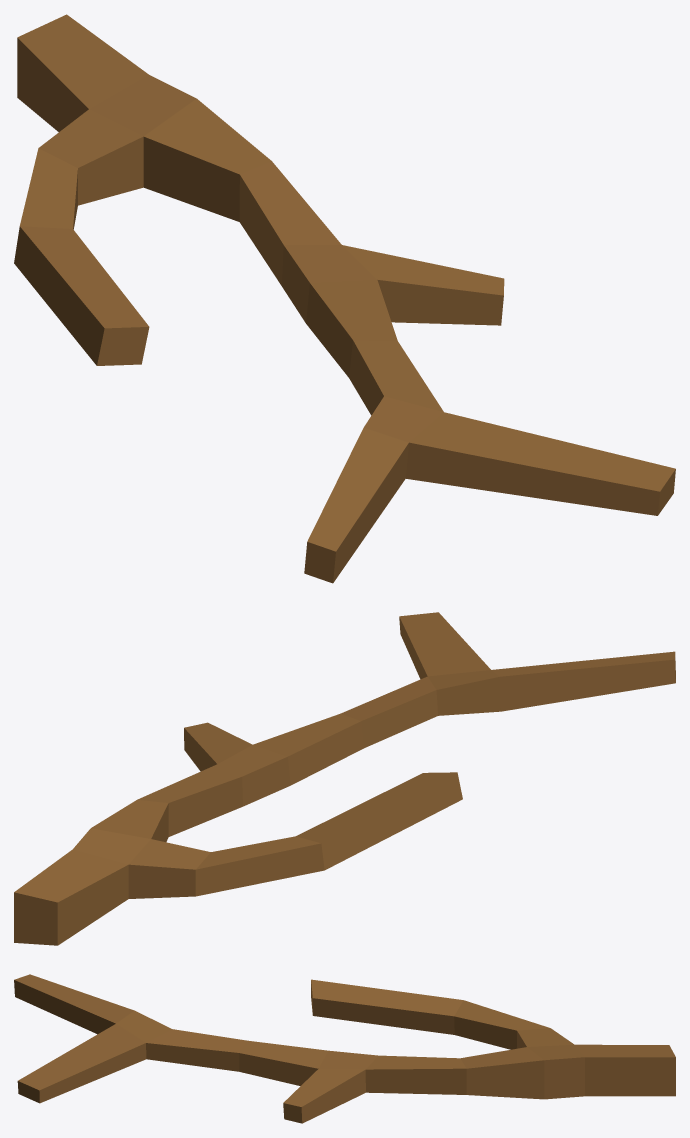
Rendered from Stick 4.fbx.
The picture shows the model from 3 angles, top to bottom: view 1: azimuth 30°, elevation 25°; view 2: azimuth 150°, elevation 25°; view 3: azimuth 270°, elevation 25°; orthographic projection. The views are drawn at different scales.
Visible parts, largest first — view 1: Cube.003; view 2: Cube.003; view 3: Cube.003.
Part boxes in pixels (x1,y1,x2,y2): Cube.003: (14,14,675,583); Cube.003: (14,612,675,945); Cube.003: (14,974,675,1123).
Bounding box in the file's own units: 142 × 22.15 × 331.
